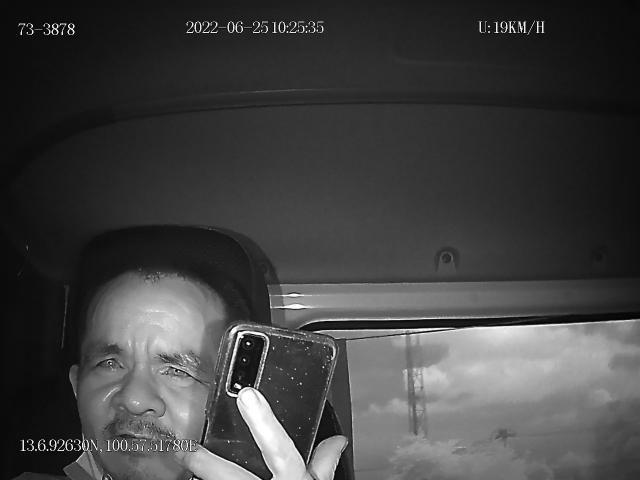PhoneUse: (197, 322, 337, 480)
SafeDriving: (85, 343, 131, 381), (151, 351, 199, 387)
